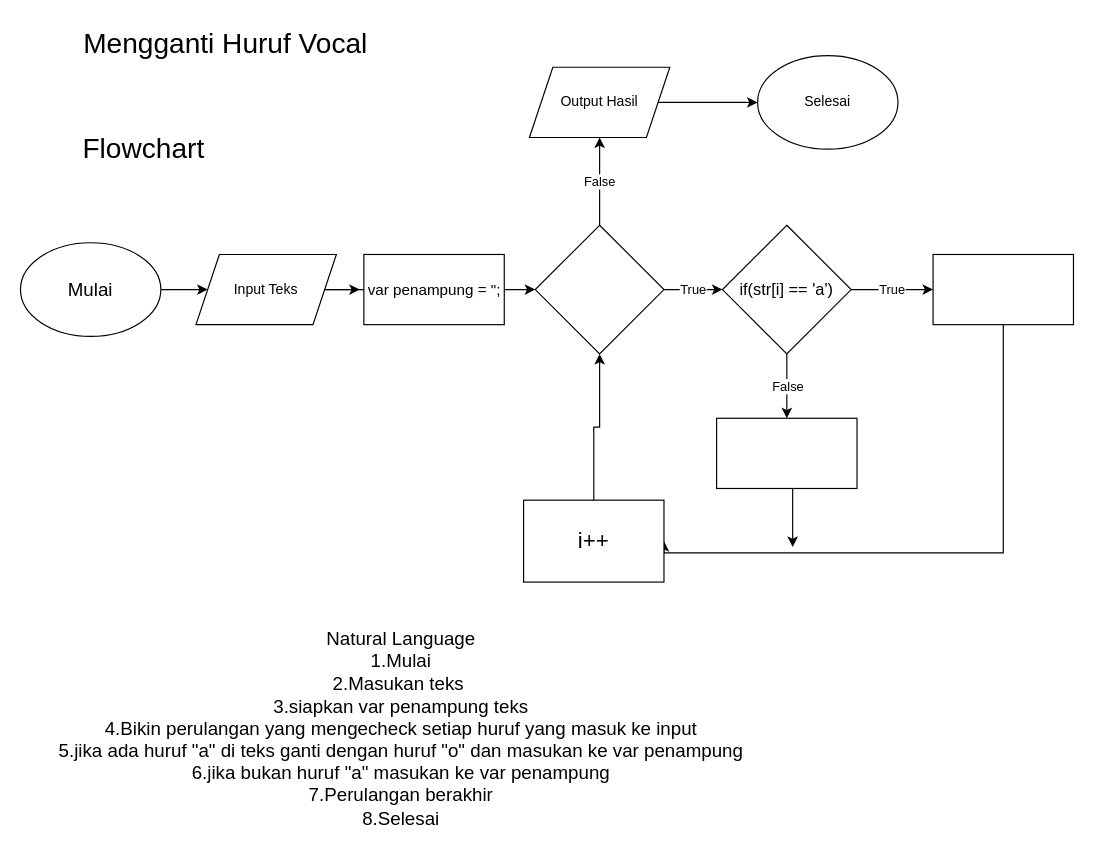
This 1094x859 diagram has some shape labels left out. The shapes that lost their labels are listed below. From the top down, each one's centre as x and y in pixels, then its label:
point 599,289: for(var i = 0; i < str.length; i++)
point 1002,289: result += "o"
point 786,452: result += str[i]
